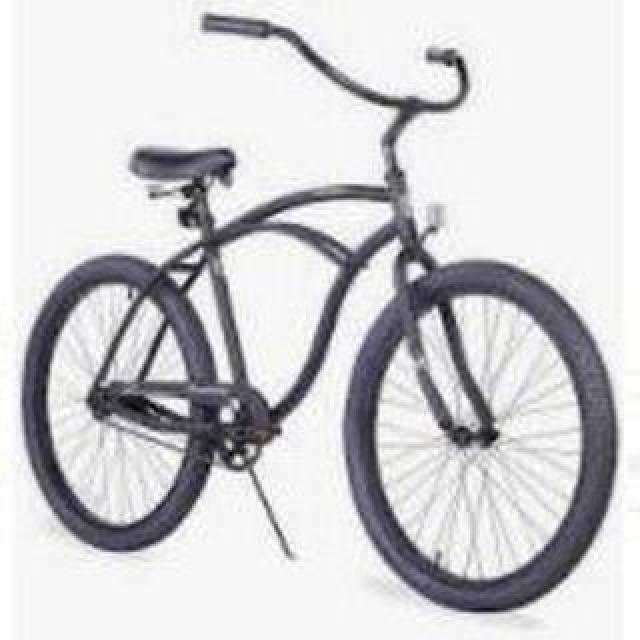Person: (15, 14, 623, 622)
